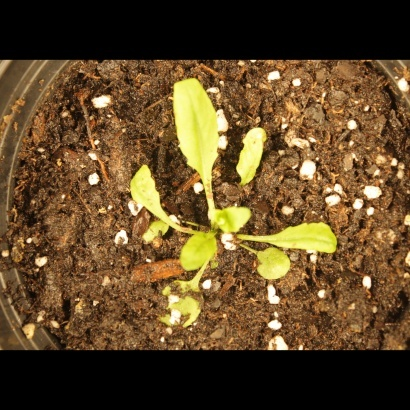leaf: (161, 74, 226, 184), (118, 158, 178, 231), (232, 118, 276, 192), (268, 216, 345, 256), (156, 274, 207, 331), (246, 249, 302, 291), (209, 199, 260, 242), (175, 228, 217, 280)
